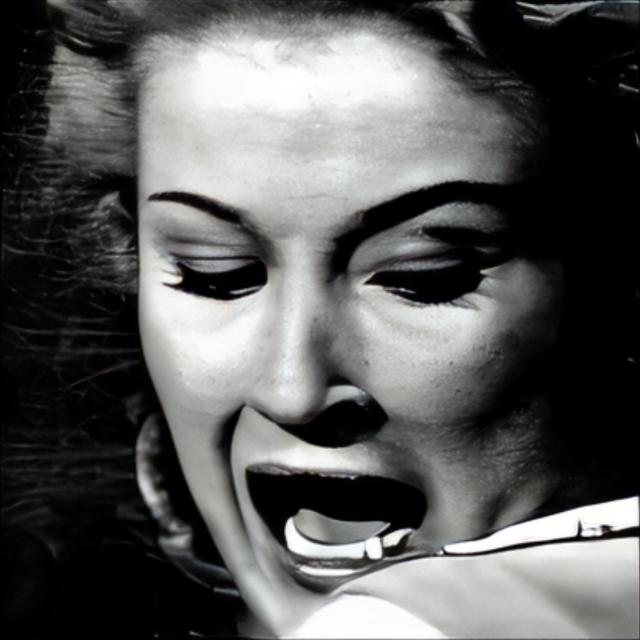Fear: (132, 2, 586, 640)
